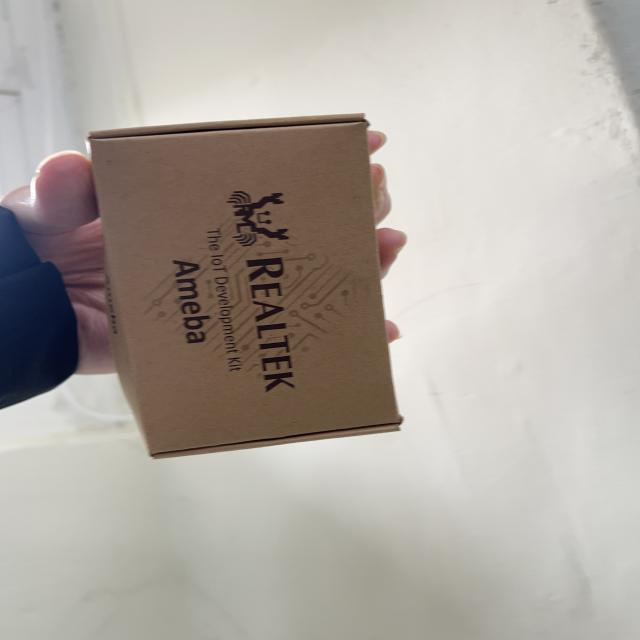box: (82, 96, 388, 477)
